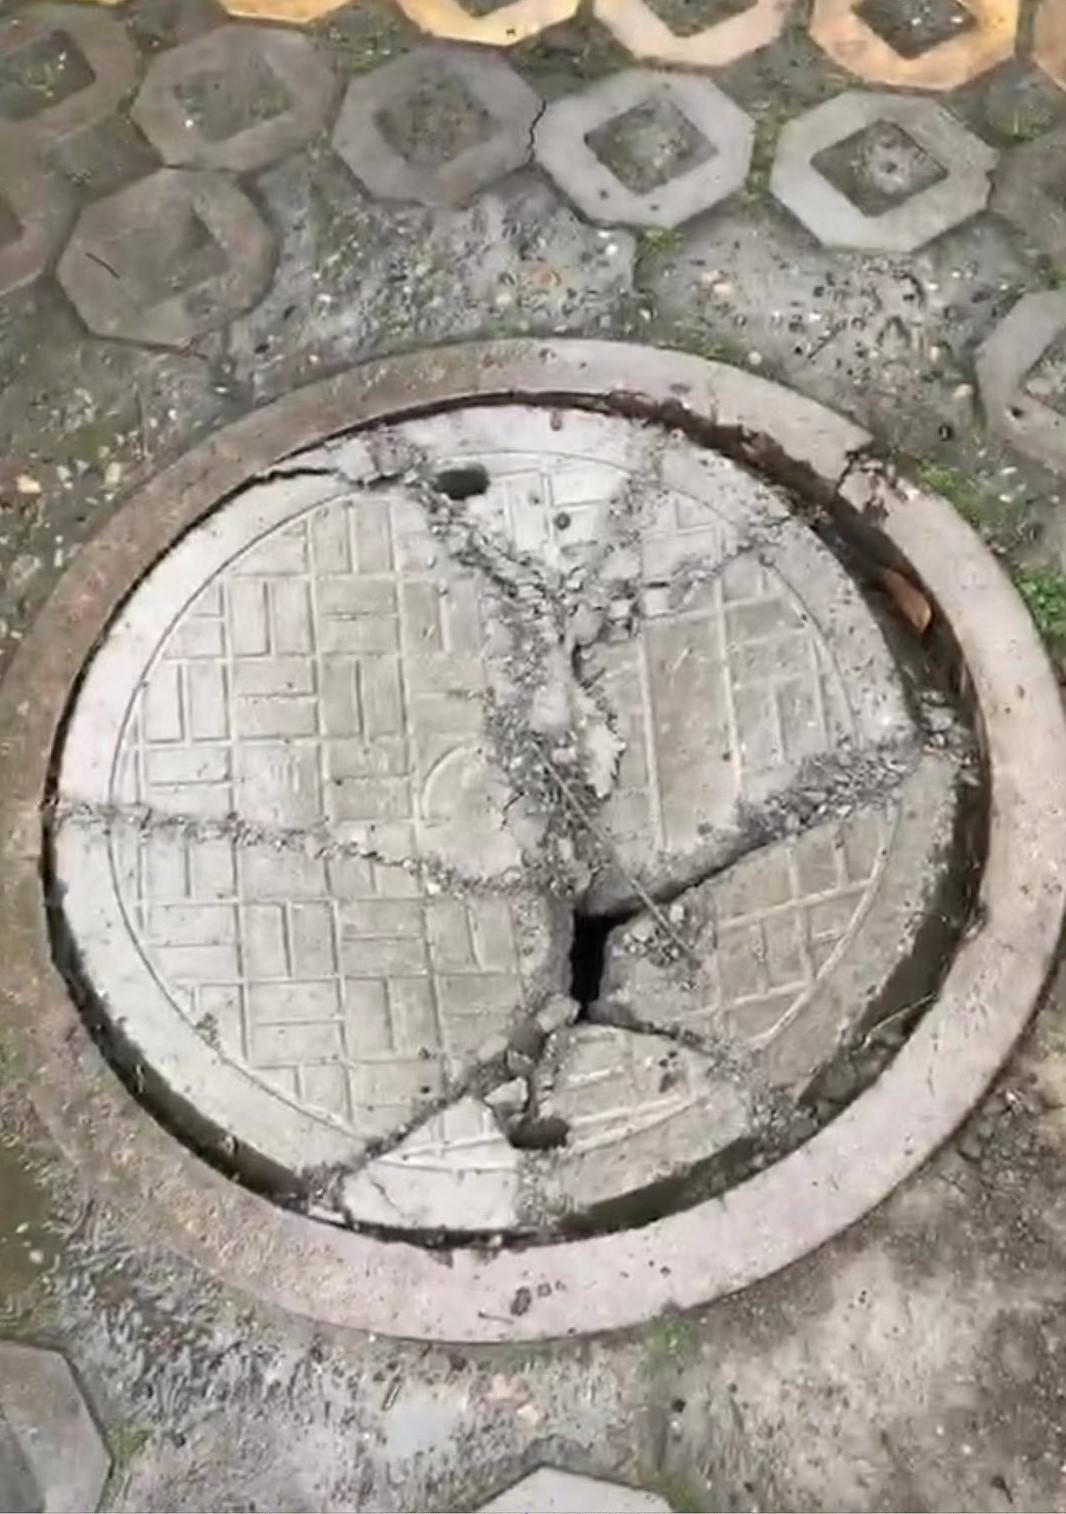broke: (28, 390, 994, 1259)
